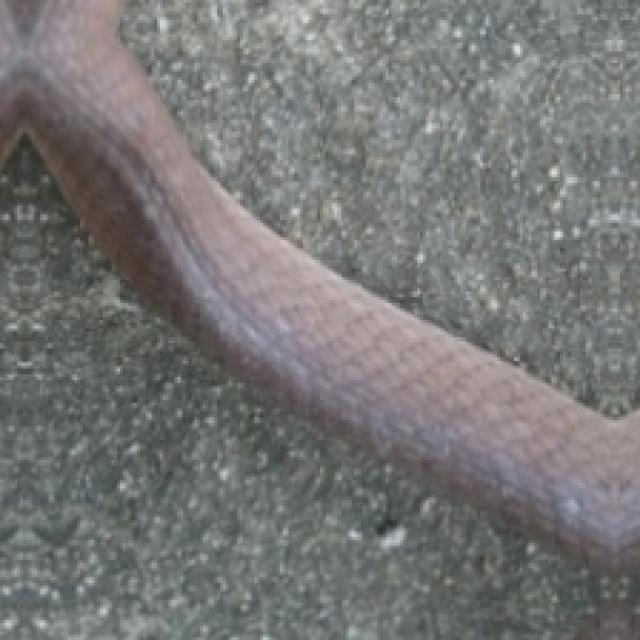reddish rat snake: (0, 0, 637, 549), (0, 149, 637, 637)
